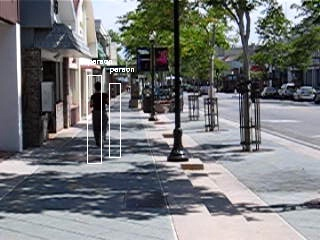person: (89, 81, 110, 147), (88, 81, 109, 147), (90, 81, 111, 147), (89, 80, 110, 146), (89, 82, 110, 148)
target_negative: (126, 20, 244, 202), (17, 138, 316, 176), (108, 162, 168, 238), (131, 186, 294, 203), (75, 176, 164, 195)
